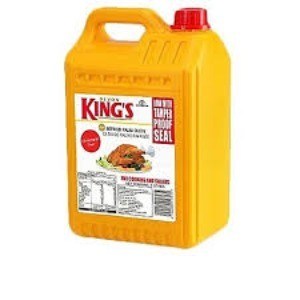vegetable oil_brain food: (73, 67, 215, 231)
